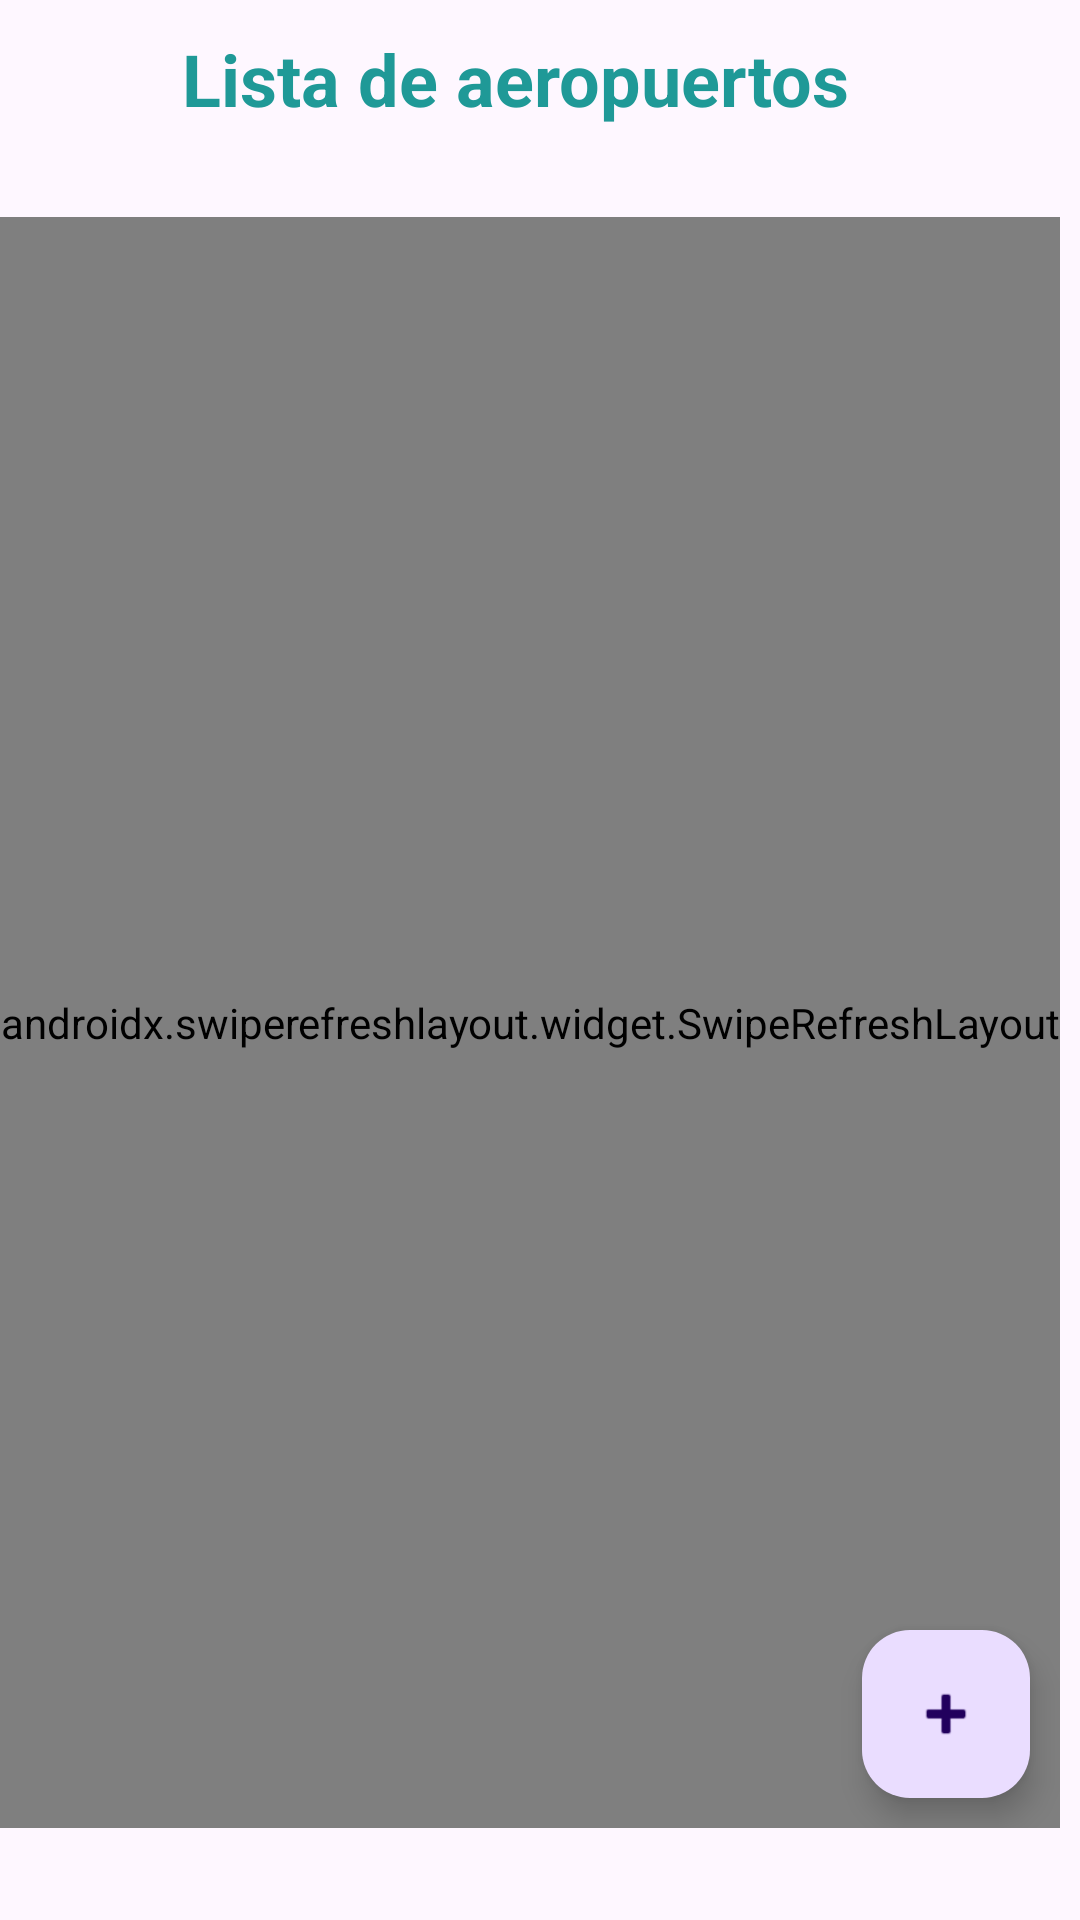

Locate icon controls on the screen. Image size 1080w x 1920h, boxes as (x1, y1, x2, y2).
Botón para ir a la pantalla de registro: (862, 1630, 1030, 1798)
